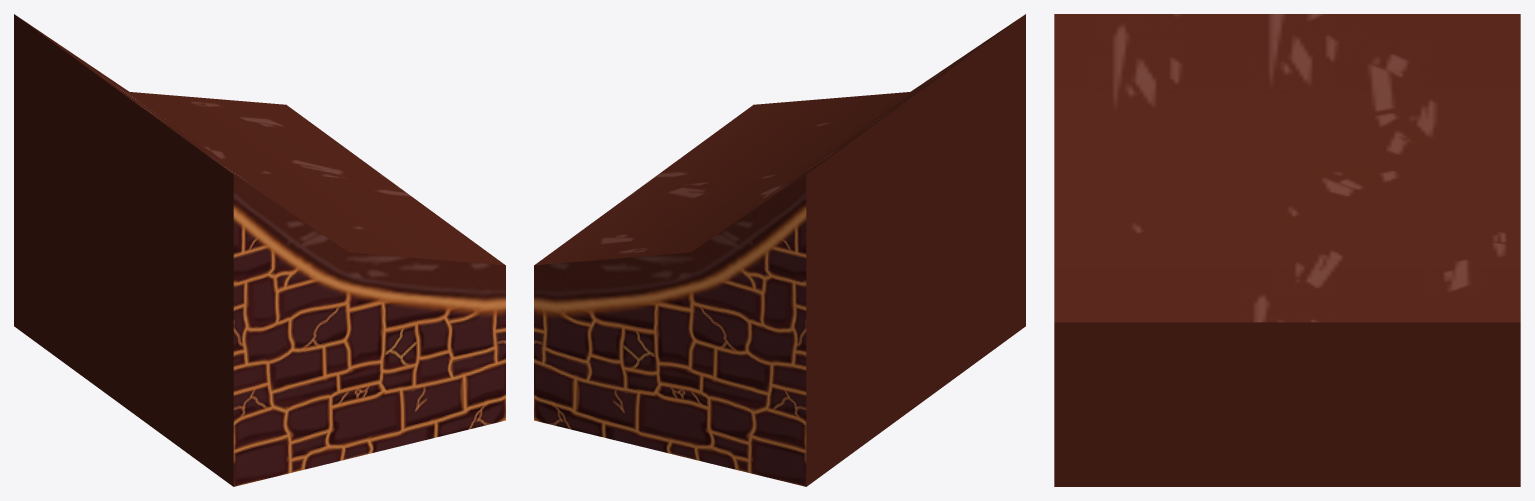
File: Volcano_R_5.fbx
3 views of the same model, side by side, from view 1: azimuth 30°, elevation 25°; view 2: azimuth 150°, elevation 25°; view 3: azimuth 270°, elevation 25° (orthographic). The views are drawn at different scales.
Parts seen in each view (by area): view 1: Volcano_R_5; view 2: Volcano_R_5; view 3: Volcano_R_5.
Part boxes in pixels (x1,y1,x2,y2): Volcano_R_5: (14,14,505,486); Volcano_R_5: (534,14,1025,486); Volcano_R_5: (1054,14,1520,486).
Size of the model in its own units: 3.05 by 3.34 by 4.26.
1 material, 1 textured.
